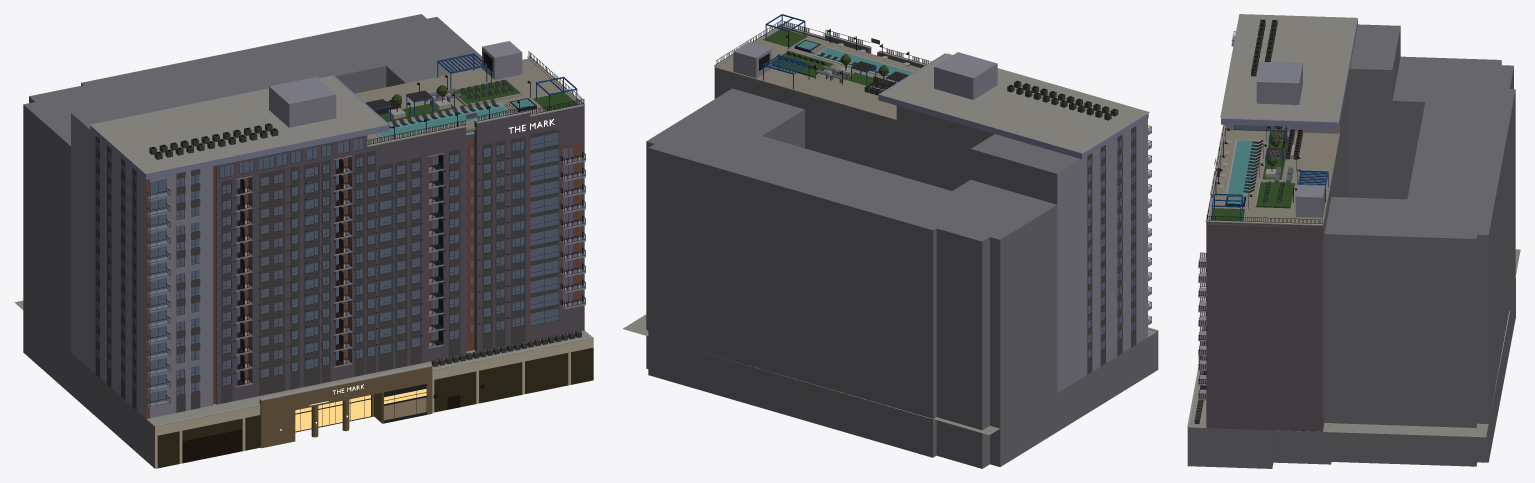
Rendered from the-mark-austin-look.glb.
The picture shows the model from 3 angles, left to right: view 1: azimuth 30°, elevation 25°; view 2: azimuth 150°, elevation 25°; view 3: azimuth 270°, elevation 25°; orthographic projection. The views are drawn at different scales.
Parts seen in each view (by area): view 1: n_plain_unseen, n_wall_panel_dark, n_glass_window, n_wall_panel_light, n_wall_white, n_frame_dark, n_roof_membrane, n_podium_charcoal, n_wall_orange, n_railing_dark, n_podium_terracotta, n_deck_paving (+15 smaller); view 2: n_plain_unseen, n_wall_white, n_roof_membrane, n_deck_paving, n_wall_panel_dark, n_glass_window, n_fascia_white, n_condenser_grey, n_turf_green, n_pergola_blue, n_railing_dark, n_frame_dark (+2 smaller); view 3: n_plain_unseen, n_wall_panel_light, n_roof_membrane, n_deck_paving, n_wall_white, n_turf_green, n_railing_dark, n_fascia_white, n_condenser_grey, n_coping_white, n_pool_water, n_pergola_blue (+4 smaller).
Boxes of the visible parts, x1=… form: n_plain_unseen: x1=23, y1=14, x2=590, y2=468; n_wall_panel_dark: x1=95, y1=129, x2=558, y2=412; n_glass_window: x1=96, y1=132, x2=573, y2=402; n_wall_panel_light: x1=215, y1=106, x2=584, y2=404; n_wall_white: x1=71, y1=41, x2=522, y2=418; n_frame_dark: x1=96, y1=132, x2=573, y2=432; n_roof_membrane: x1=14, y1=76, x2=591, y2=425; n_podium_charcoal: x1=157, y1=347, x2=593, y2=468; n_wall_orange: x1=146, y1=135, x2=578, y2=418; n_railing_dark: x1=146, y1=51, x2=585, y2=406; n_podium_terracotta: x1=259, y1=366, x2=432, y2=448; n_deck_paving: x1=355, y1=58, x2=579, y2=144; n_plain_unseen: x1=646, y1=67, x2=1158, y2=468; n_wall_white: x1=733, y1=42, x2=1151, y2=392; n_roof_membrane: x1=623, y1=53, x2=1156, y2=435; n_deck_paving: x1=715, y1=27, x2=920, y2=119; n_wall_panel_dark: x1=1087, y1=126, x2=1136, y2=374; n_glass_window: x1=1087, y1=131, x2=1135, y2=357; n_fascia_white: x1=878, y1=53, x2=1148, y2=159; n_condenser_grey: x1=864, y1=80, x2=1118, y2=120; n_turf_green: x1=763, y1=29, x2=891, y2=87; n_pergola_blue: x1=763, y1=14, x2=899, y2=89; n_railing_dark: x1=716, y1=20, x2=1151, y2=323; n_frame_dark: x1=1088, y1=131, x2=1135, y2=358; n_plain_unseen: x1=1187, y1=24, x2=1515, y2=468; n_wall_panel_light: x1=1206, y1=128, x2=1322, y2=431; n_roof_membrane: x1=1189, y1=14, x2=1520, y2=437; n_deck_paving: x1=1208, y1=130, x2=1339, y2=228; n_wall_white: x1=1223, y1=36, x2=1339, y2=217; n_turf_green: x1=1210, y1=136, x2=1294, y2=221; n_railing_dark: x1=1198, y1=31, x2=1322, y2=398; n_fascia_white: x1=1221, y1=18, x2=1357, y2=128; n_condenser_grey: x1=1194, y1=19, x2=1302, y2=423; n_coping_white: x1=1187, y1=125, x2=1322, y2=427; n_pool_water: x1=1227, y1=140, x2=1252, y2=203; n_pergola_blue: x1=1212, y1=130, x2=1328, y2=220.
Size of the model in its own units: 87.55 by 59.04 by 62.39.
